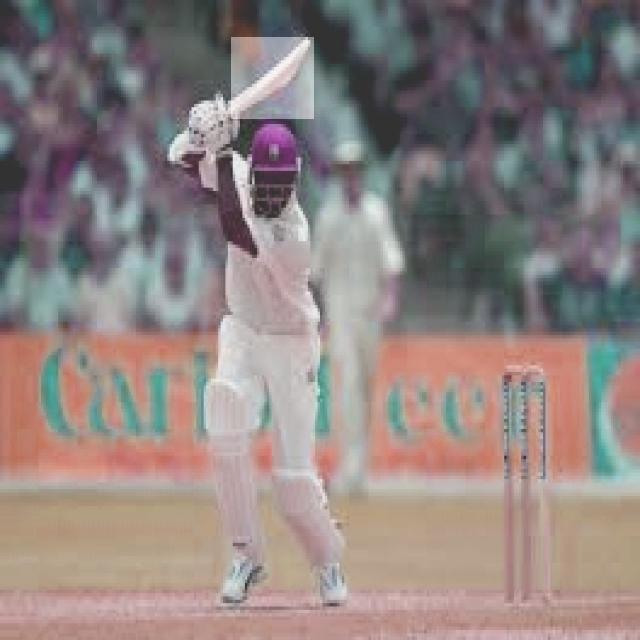bat: (230, 38, 315, 120)
